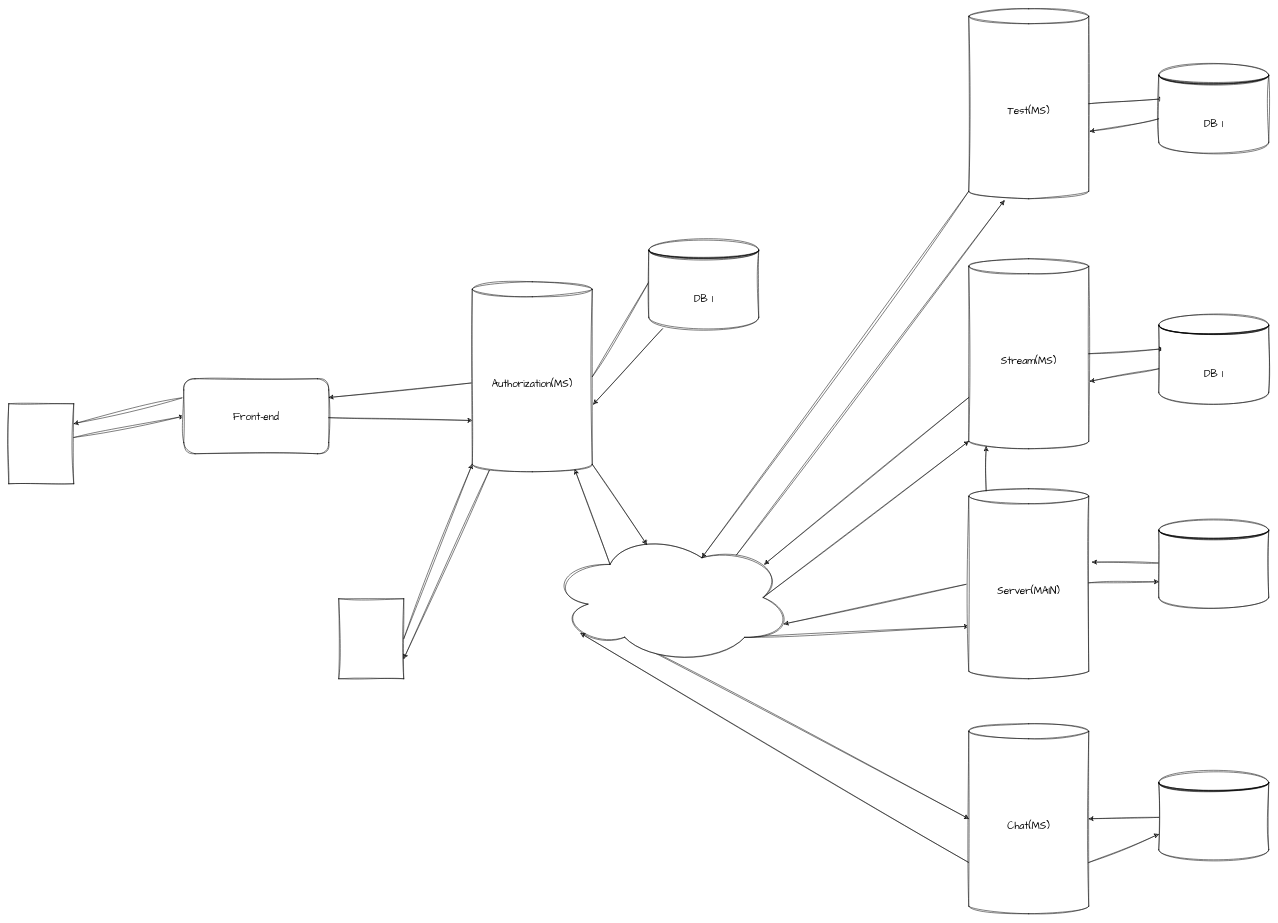
The diagram is 1278 pixels wide and 923 high, and some of its shapes have lost their labels. Each missing label, with the centre of its shape:
"DB 2" belongs at [1213,563].
"DB 4" belongs at [1213,816].
"KUBER" belongs at [671,597].
"Mobile" belongs at [371,638].
"Web" belongs at [41,443].
